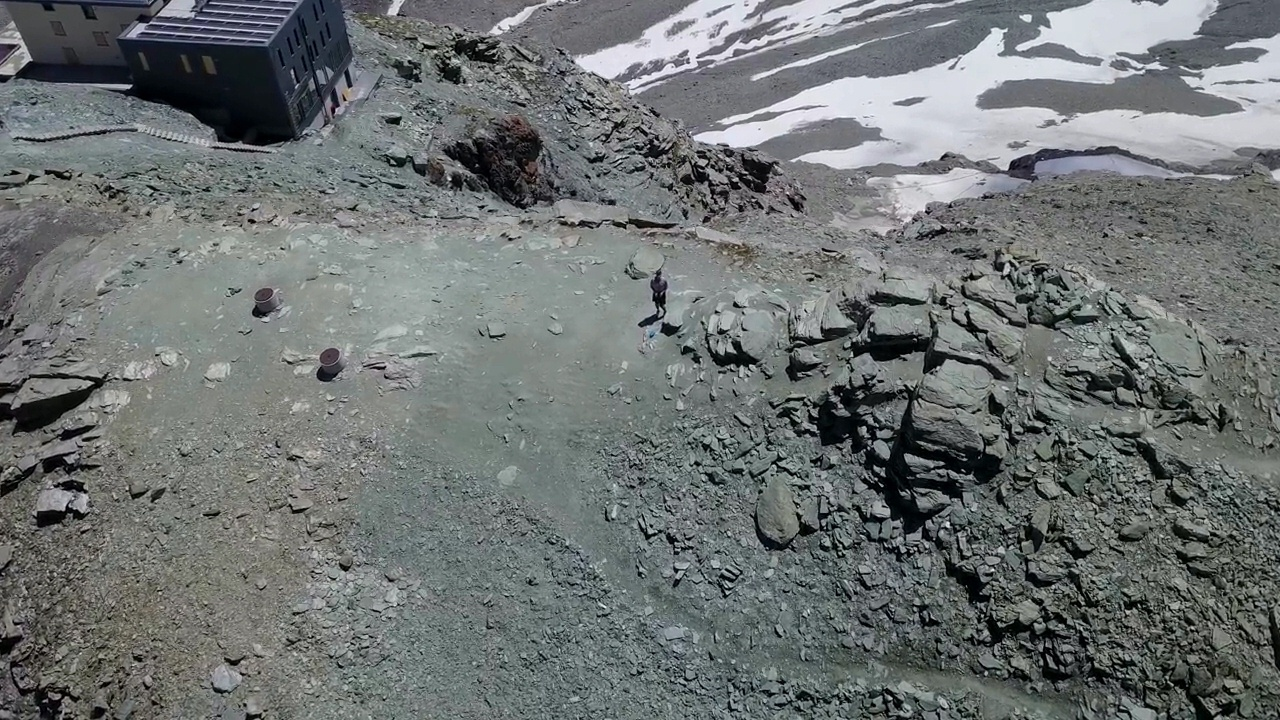insan: (647, 269, 674, 322)
